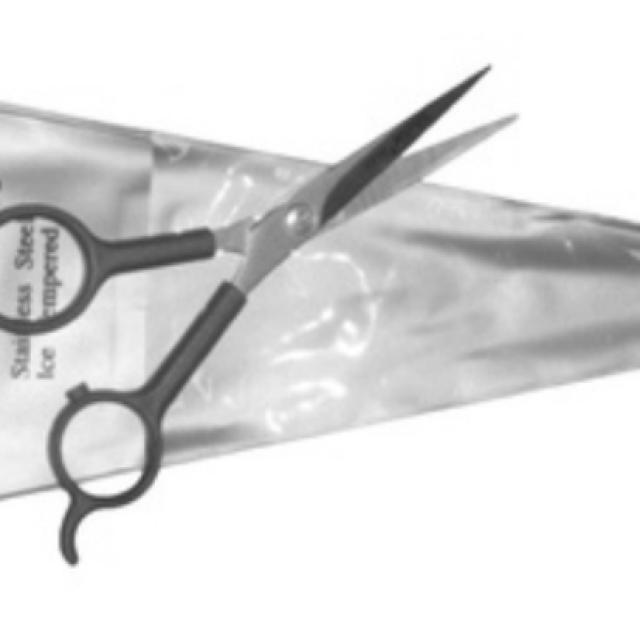tesoura: (0, 65, 515, 563)
